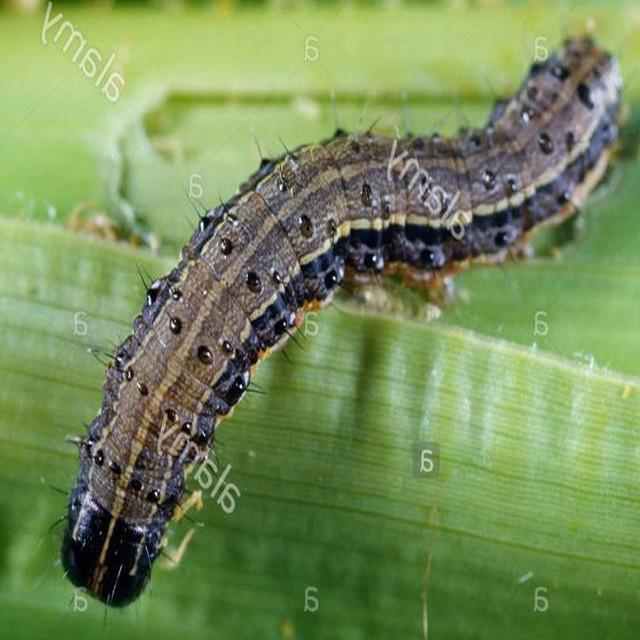gusano_cogollero: (52, 31, 632, 614)
